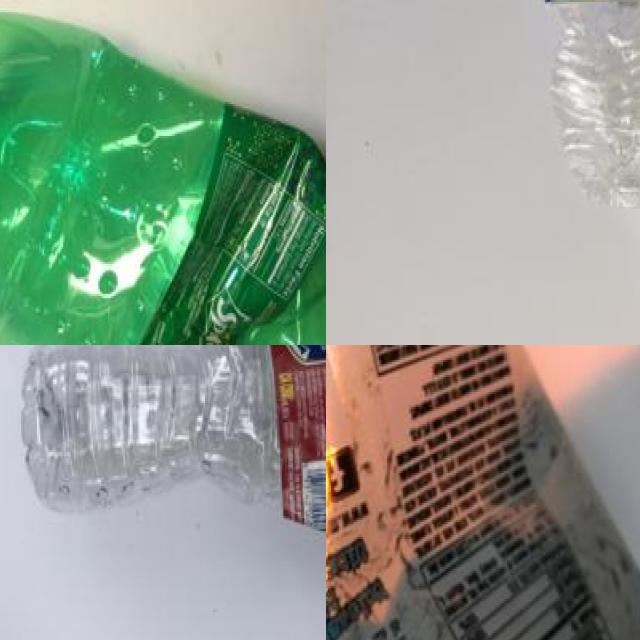plastic: (0, 0, 326, 345), (326, 345, 640, 640), (31, 345, 326, 545), (537, 0, 640, 221)
